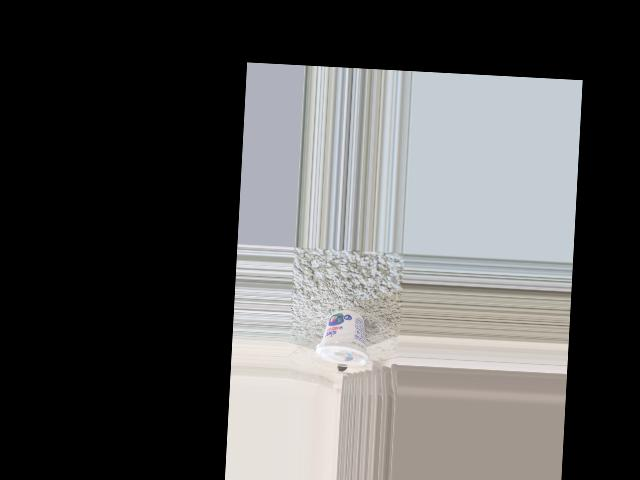cotage: (318, 307, 368, 368)
